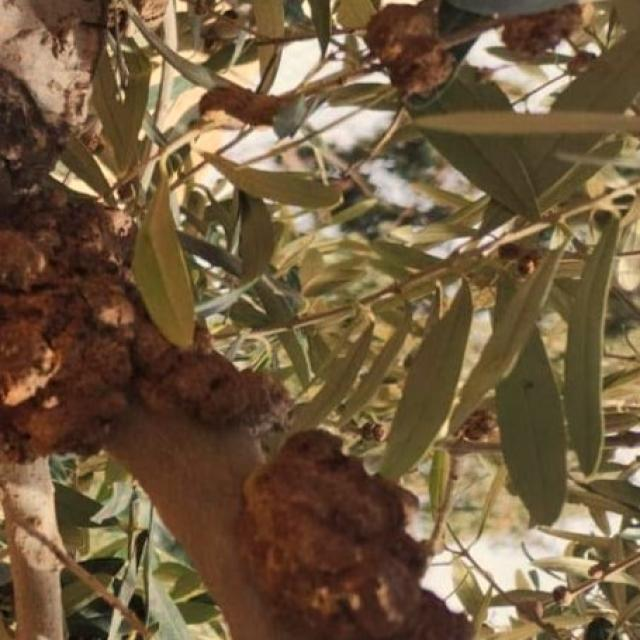Tuberculosis: (0, 186, 286, 462), (238, 430, 470, 637), (366, 0, 466, 110), (501, 5, 595, 71), (200, 83, 307, 138)
